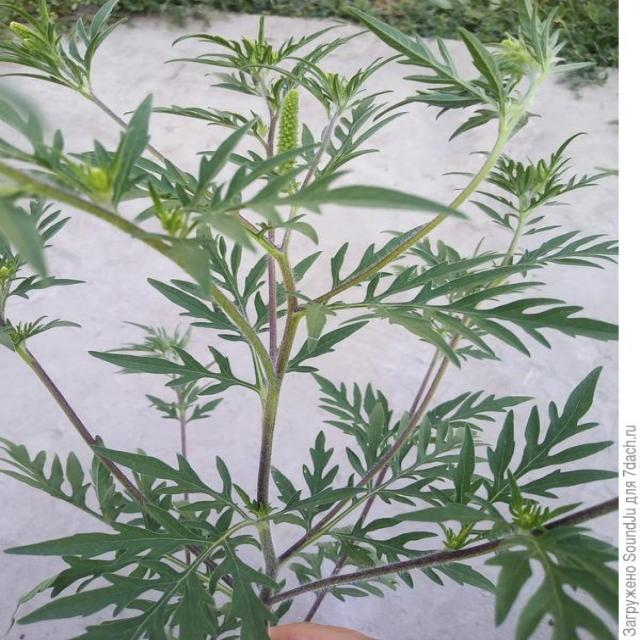ambrosia: (57, 29, 531, 316)
